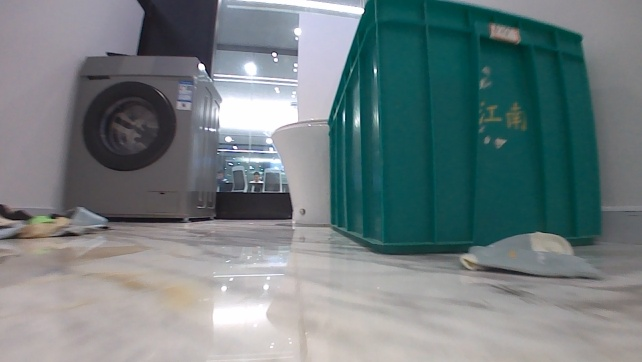cupboard: (60, 54, 222, 223)
socks: (460, 228, 606, 279)
toilet: (264, 116, 332, 227)
